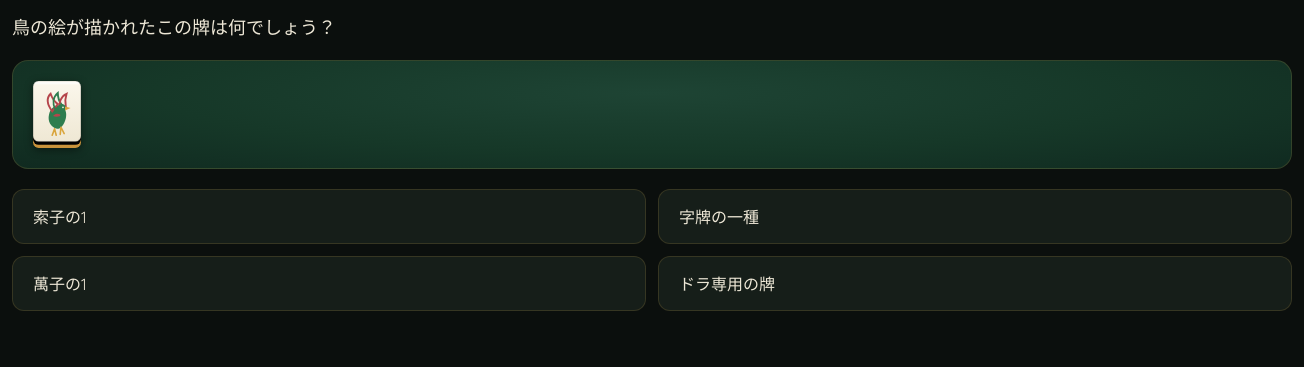
Test: ChoiceQuizStepView › 誤答では再挑戦メッセージが出てonCompleteは呼ばれない
Click the button "字牌の一種" at (719, 216), box 658,189 -> 1292,244
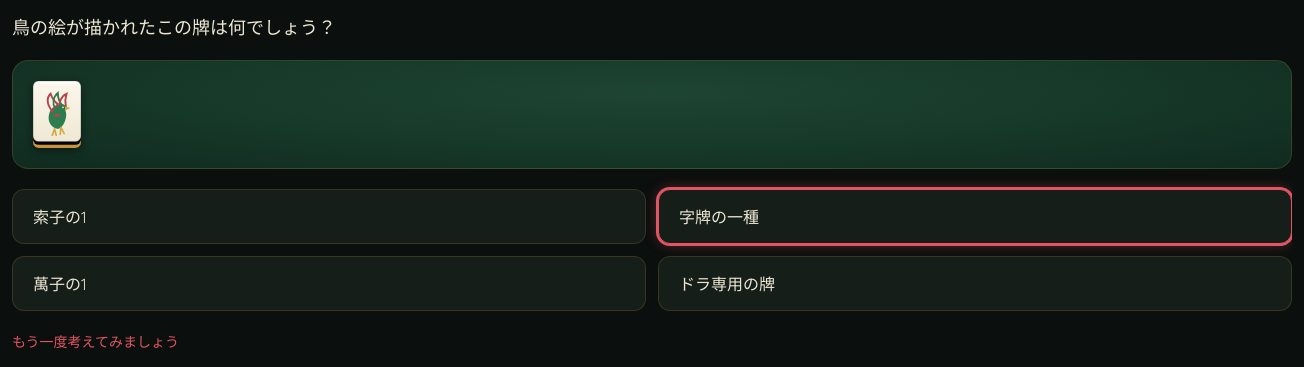
Result: the text "もう一度考えてみましょう" is shown at 12,331 -> 179,351
